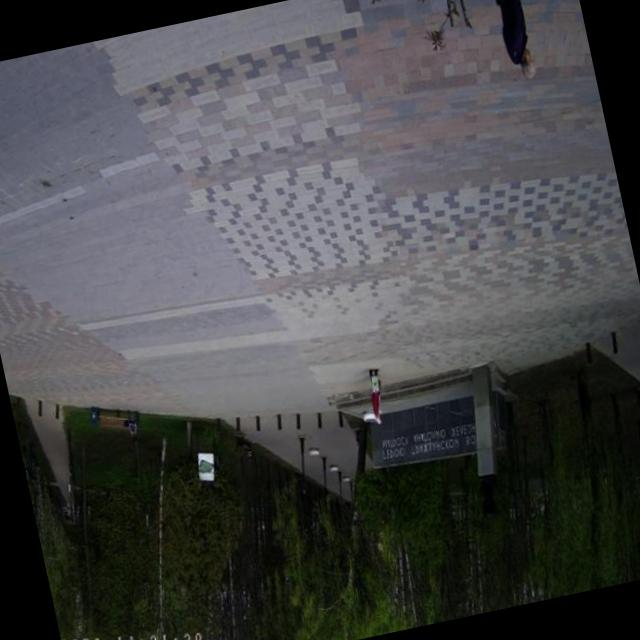person: (473, 0, 552, 87)
